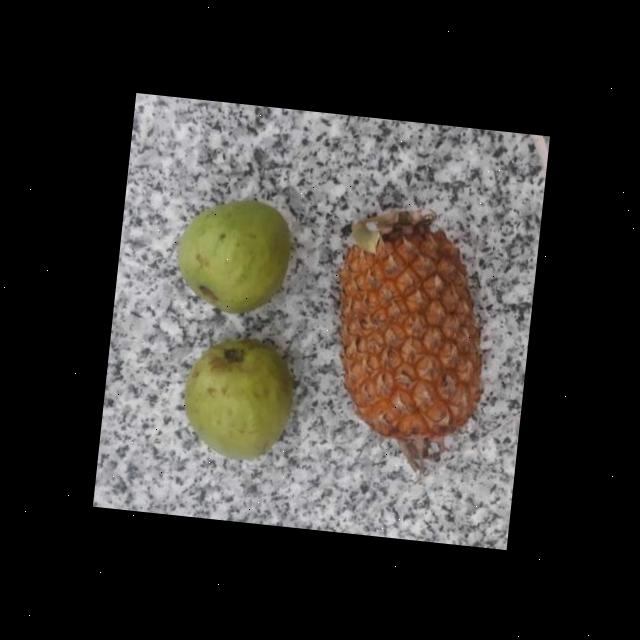guava: (174, 337, 298, 461), (168, 194, 294, 313)
pineapple: (318, 206, 494, 451)
